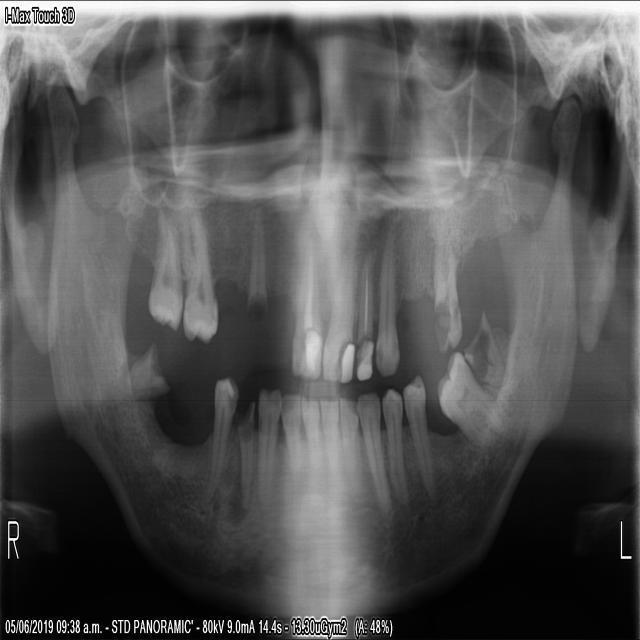LCD: (352, 383, 392, 520)
LCU: (369, 211, 401, 381)
LID: (315, 389, 342, 502), (334, 389, 360, 505)
LIU: (318, 221, 358, 387), (351, 237, 375, 386)
LMD: (430, 338, 505, 464)
LPMD: (399, 366, 438, 509), (379, 378, 410, 514)
LPMU: (428, 222, 467, 358)
RCD: (255, 378, 284, 519)
RID: (277, 384, 307, 507), (296, 387, 325, 491)
RIU: (286, 217, 323, 384)
RMU: (177, 190, 219, 352), (144, 187, 185, 336)
RPMD: (200, 371, 239, 503)
